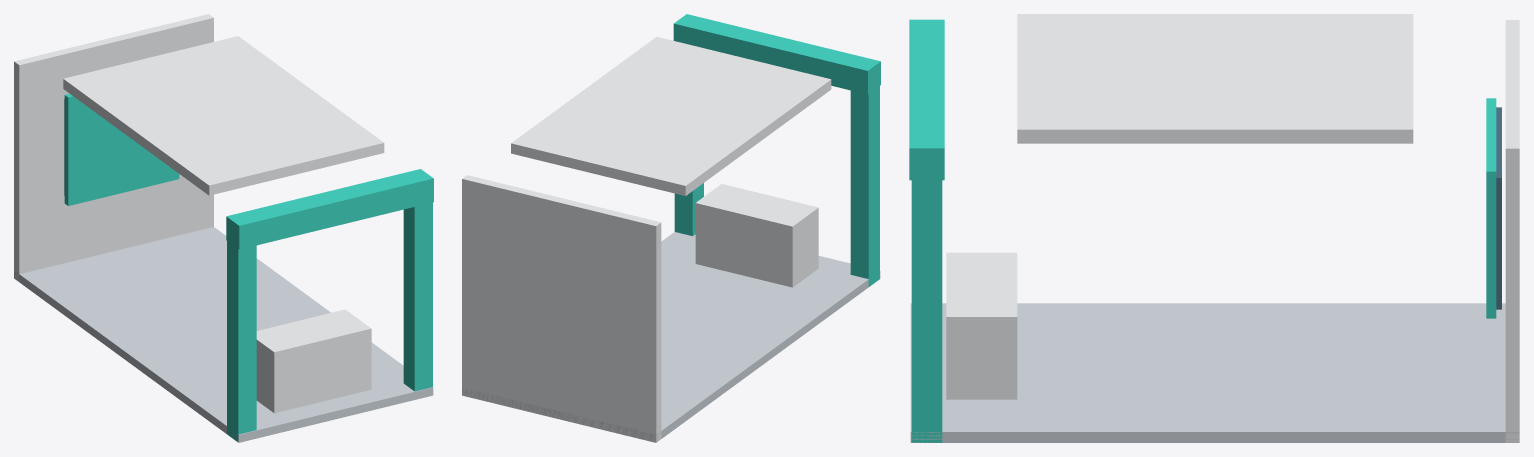
3 views of the same model, side by side, from view 1: azimuth 30°, elevation 25°; view 2: azimuth 150°, elevation 25°; view 3: azimuth 270°, elevation 25° (orthographic). The views are drawn at different scales.
Parts seen in each view (by area): view 1: Exhibition Booth Concept; view 2: Exhibition Booth Concept; view 3: Exhibition Booth Concept.
Boxes of the visible parts, x1,y1,x2,y2 form: Exhibition Booth Concept: (14,14,433,442); Exhibition Booth Concept: (462,14,880,442); Exhibition Booth Concept: (909,14,1519,442).
Bounding box in the file's own units: 3 × 3.34 × 6.02.
